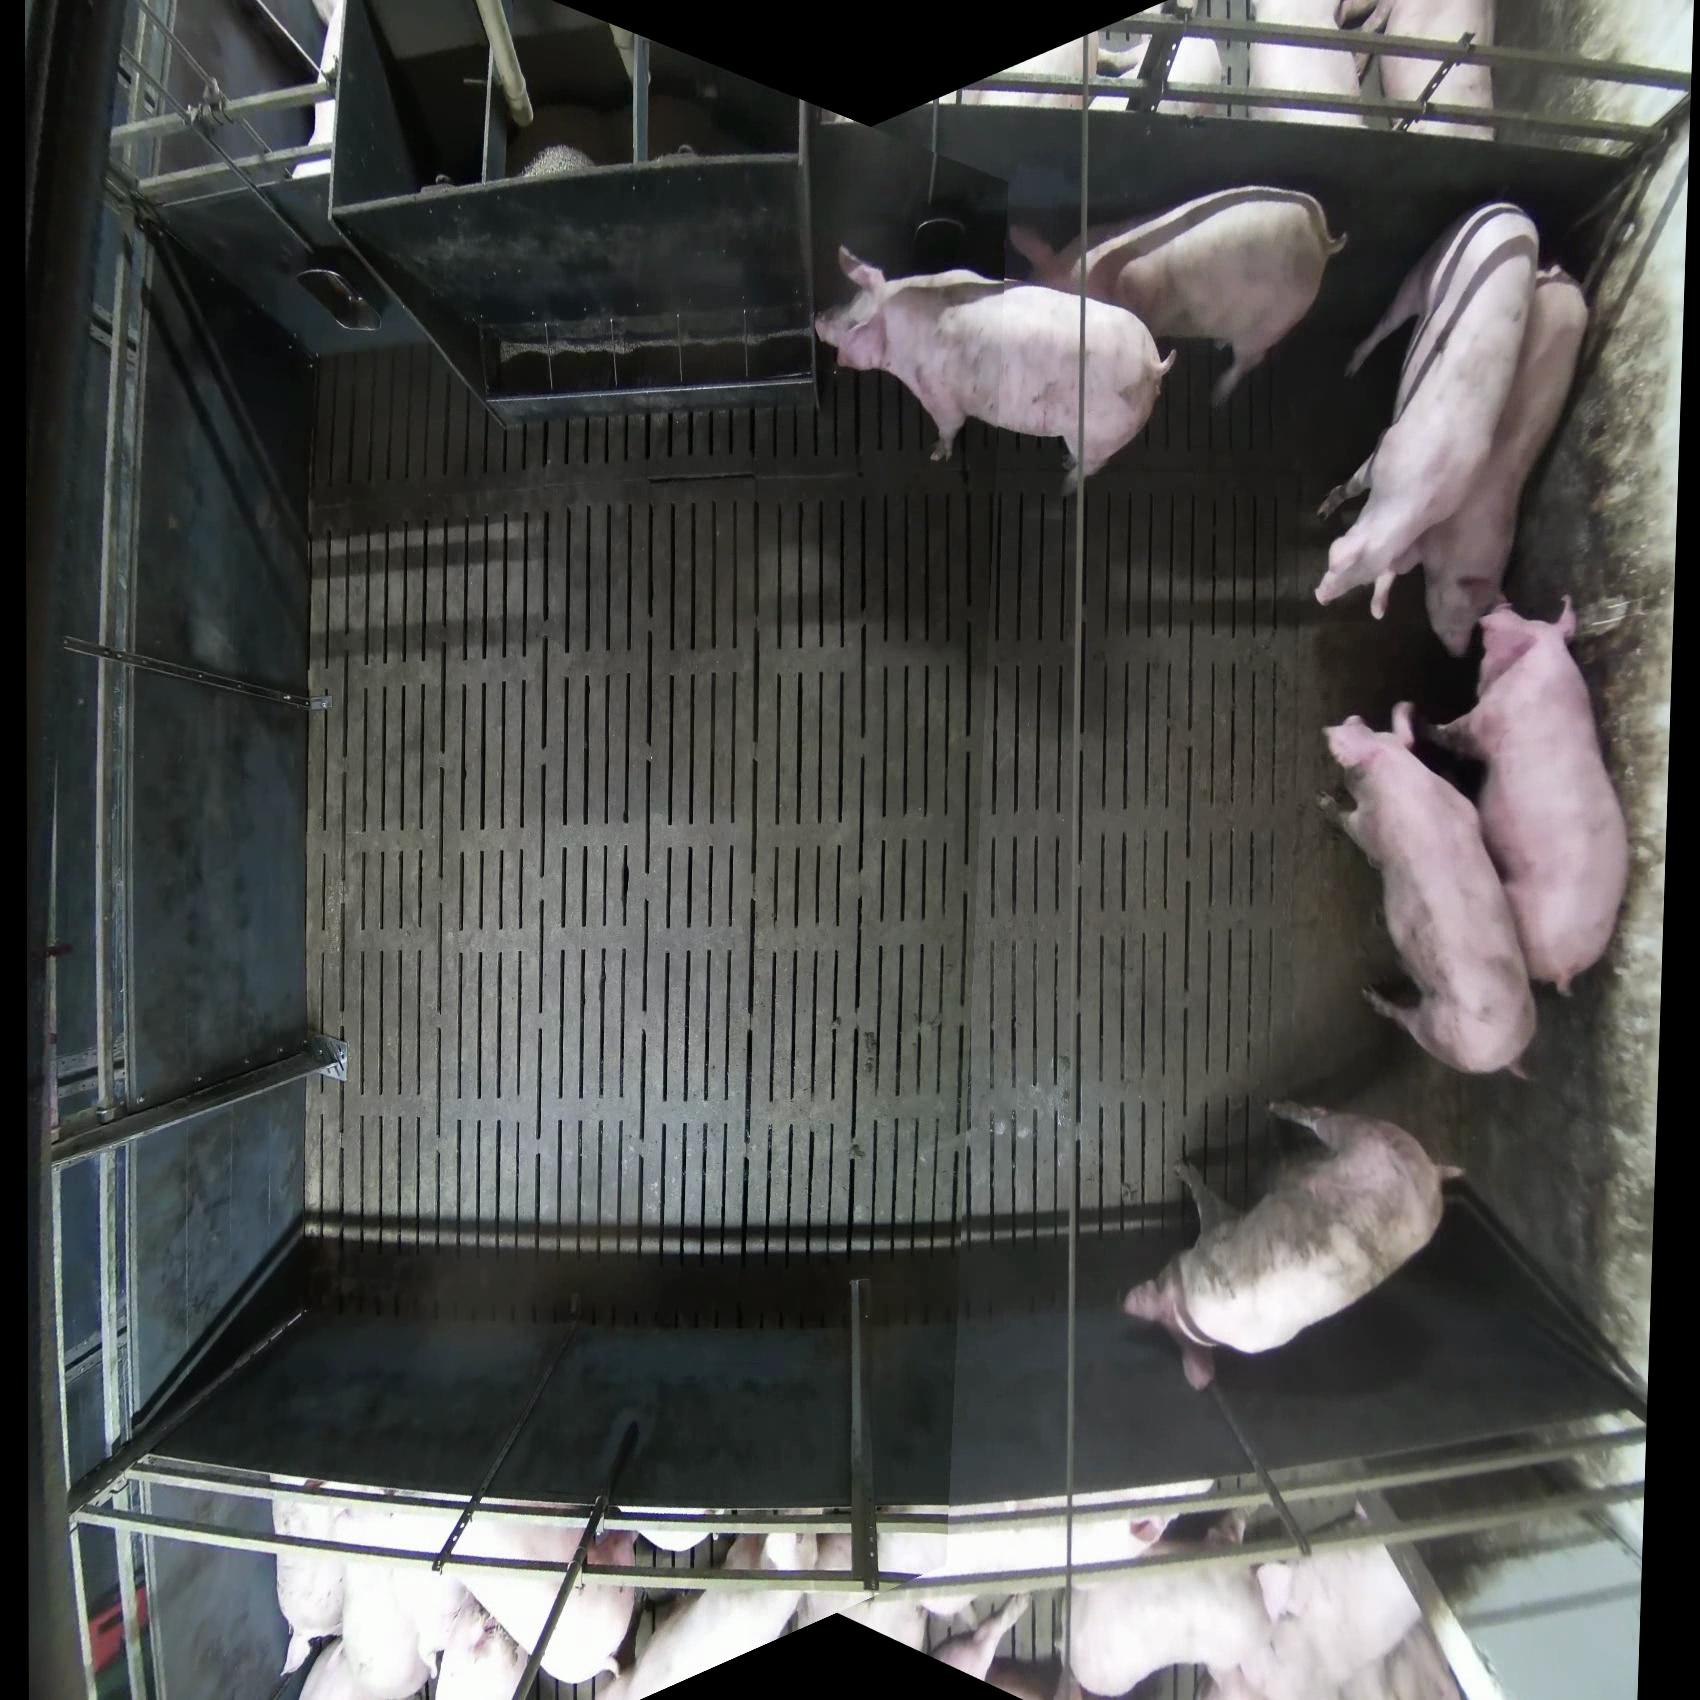pig: (1314, 199, 1589, 657), (1121, 1098, 1465, 1392), (813, 243, 1178, 497), (1315, 701, 1540, 1084), (1428, 593, 1632, 999), (271, 1484, 638, 1700), (1007, 182, 1350, 413), (1203, 1499, 1463, 1700), (592, 1529, 838, 1698), (1063, 1505, 1275, 1698), (820, 1526, 1034, 1684), (1168, 2, 1381, 129), (1336, 2, 1498, 142)
